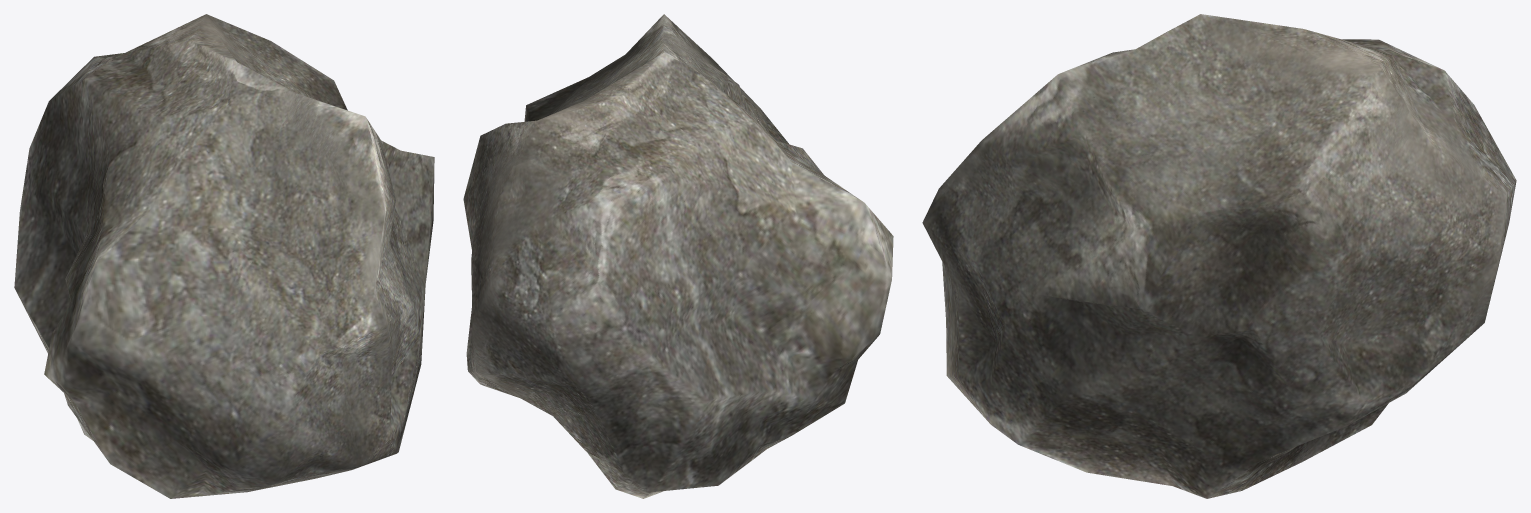
The model's file is small_rock.glb.
3 views of the same model, side by side, from view 1: azimuth 30°, elevation 25°; view 2: azimuth 150°, elevation 25°; view 3: azimuth 270°, elevation 25° (orthographic). The views are drawn at different scales.
Parts seen in each view (by area): view 1: Object_2; view 2: Object_2; view 3: Object_2.
Part boxes in pixels (box(x1,y1,x2,y2)): Object_2: box(14, 14, 434, 498); Object_2: box(463, 14, 893, 498); Object_2: box(922, 14, 1516, 498).
Size of the model in its own units: 1.77 by 1.83 by 2.21.
1 material, 1 textured.
